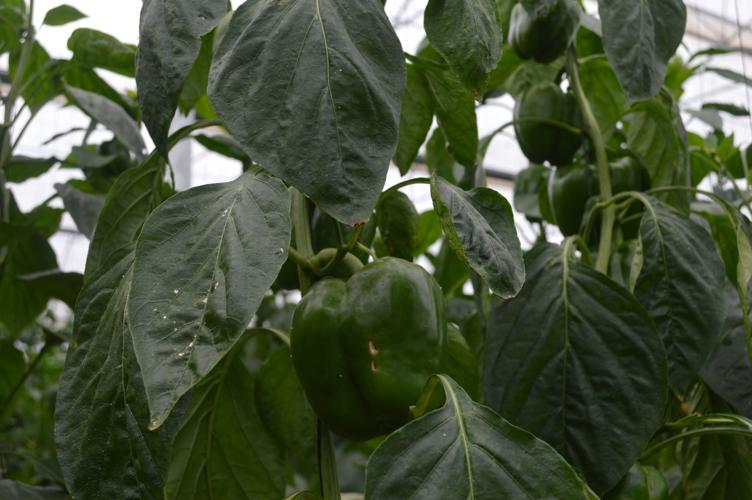BellPepper: (293, 255, 441, 443), (539, 147, 650, 248), (497, 68, 585, 162), (496, 1, 598, 71)
